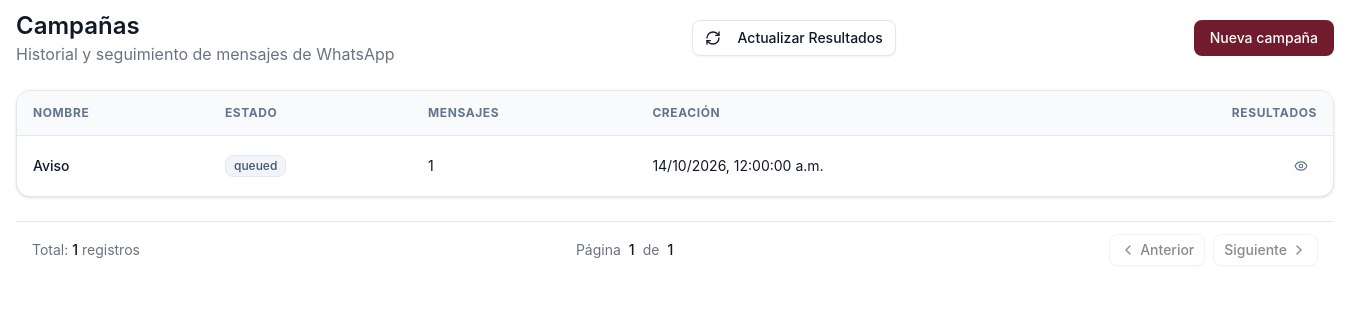
Test: Campaign refresh › keeps results visible and offers retry after a refresh failure
This screenshot has width=1351, height=331.
expect the text "Aviso" is shown: met, box [17,135,209,196]
Click the button "Actualizar Resultados" at (794, 38), box [692,20,896,56]
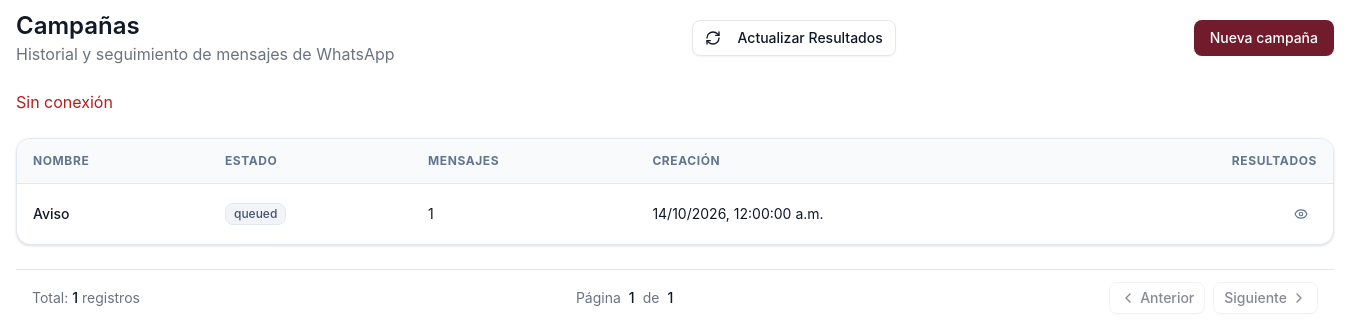
expect the text "Aviso" is shown: met, box [17,183,209,244]
expect the message reads "Sin conexión": met, box [16,92,113,112]
